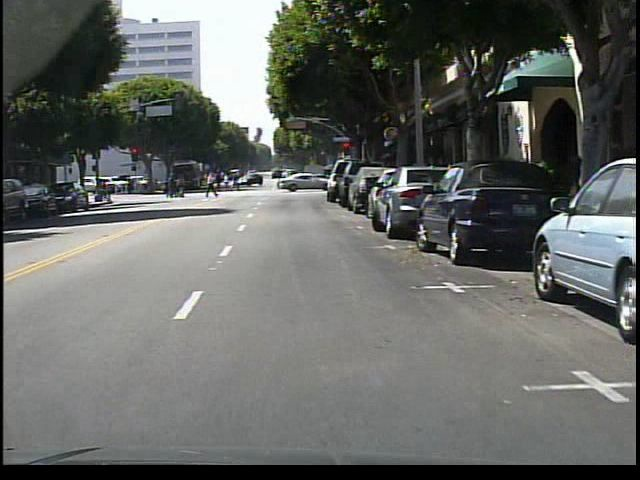person: (200, 169, 220, 199)
